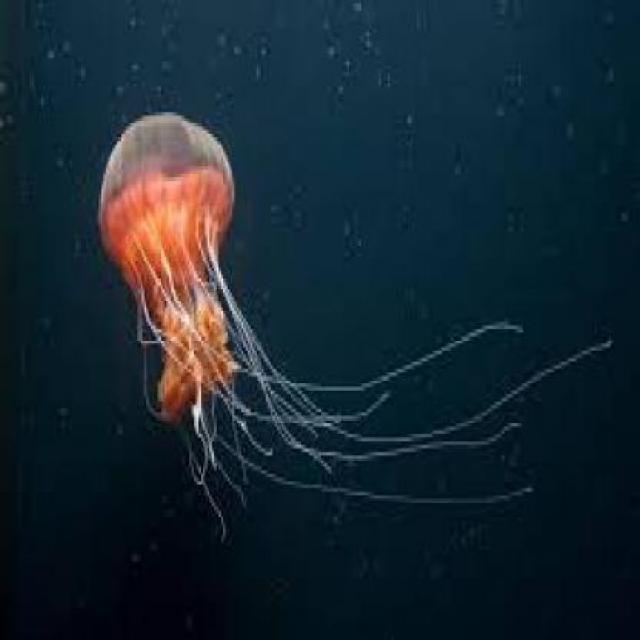Jellyfish: (94, 93, 604, 510)
